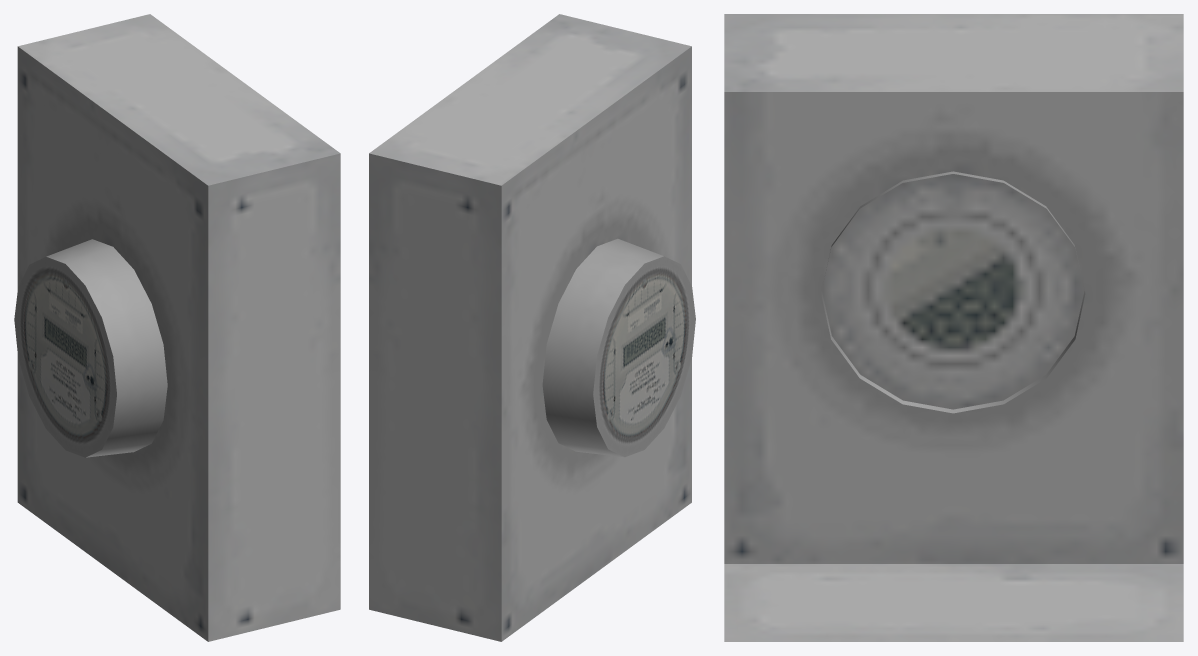
File: MB_Electric_Meter_02.fbx
3 views of the same model, side by side, from view 1: azimuth 30°, elevation 25°; view 2: azimuth 150°, elevation 25°; view 3: azimuth 270°, elevation 25° (orthographic). The views are drawn at different scales.
Parts seen in each view (by area): view 1: MB_Electric_Meter_02; view 2: MB_Electric_Meter_02; view 3: MB_Electric_Meter_02.
Boxes of the visible parts, x1,y1,x2,y2 form: MB_Electric_Meter_02: (14, 14, 340, 641); MB_Electric_Meter_02: (369, 14, 695, 641); MB_Electric_Meter_02: (724, 14, 1183, 641).
Size of the model in its own units: 9.41 by 22.79 by 17.25.
